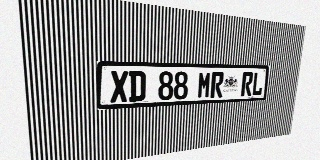8: (158, 71, 174, 100), (173, 71, 189, 100)
D: (129, 71, 146, 102)
L: (251, 72, 264, 96)
M: (197, 72, 212, 98)
R: (210, 72, 224, 98), (241, 72, 254, 96)
X: (110, 71, 128, 103)
